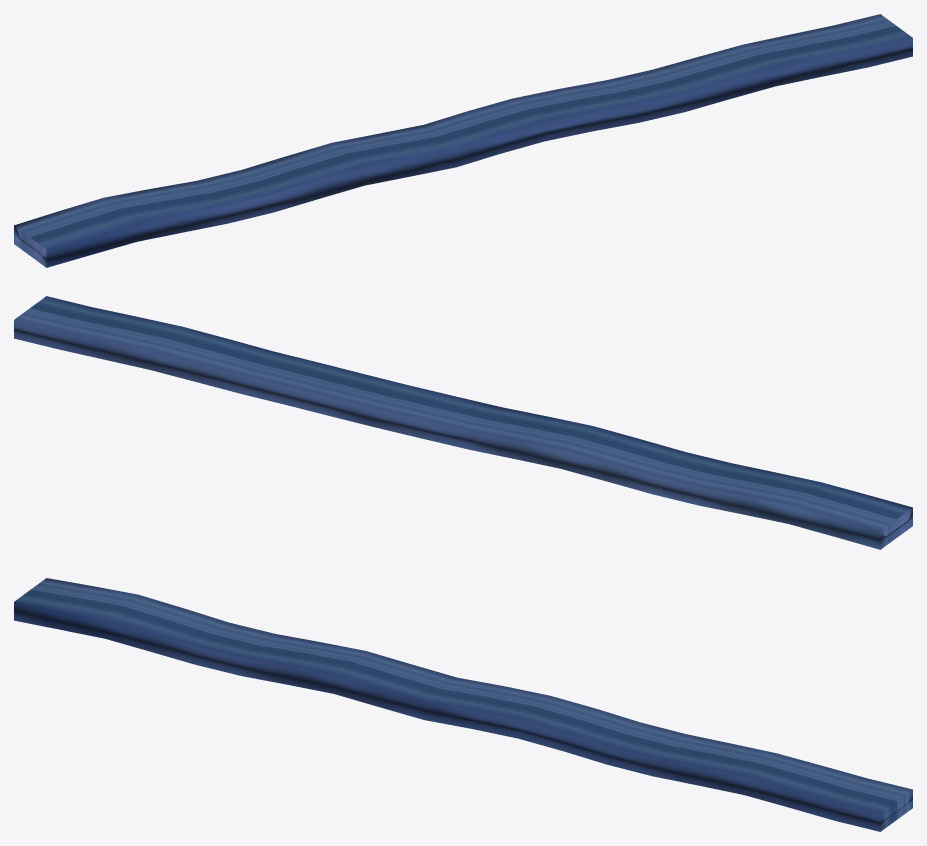
Rendered from agua.fbx.
3 views of the same model, one above another, from view 1: azimuth 30°, elevation 25°; view 2: azimuth 150°, elevation 25°; view 3: azimuth 330°, elevation 25° (orthographic).
Parts seen in each view (by area): view 1: Cube.002; view 2: Cube.002; view 3: Cube.002.
Boxes of the visible parts, x1,y1,x2,y2 form: Cube.002: [14, 14, 912, 267]; Cube.002: [14, 296, 912, 549]; Cube.002: [14, 578, 912, 831].
Bounding box in the file's own units: 1549 × 41.04 × 110.
